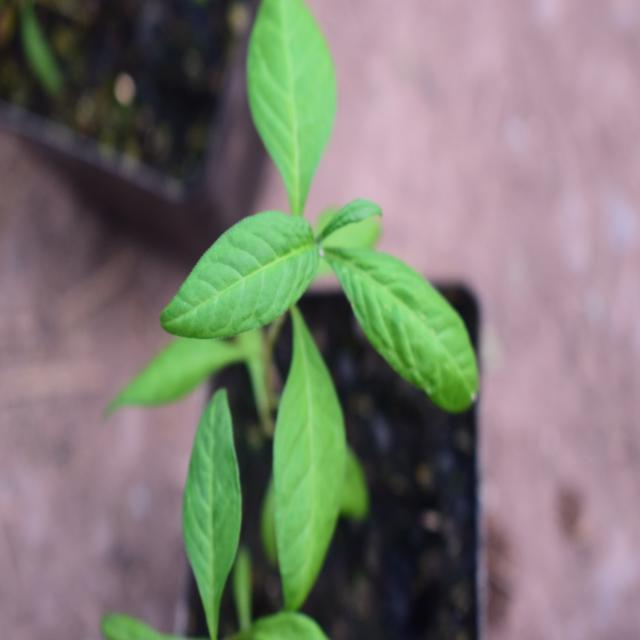white_smart_weed: (116, 14, 480, 590)
